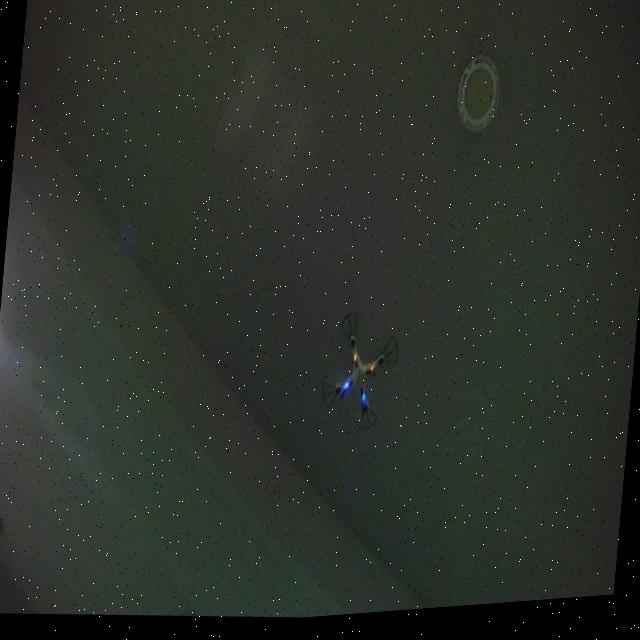drone: (314, 308, 402, 443)
